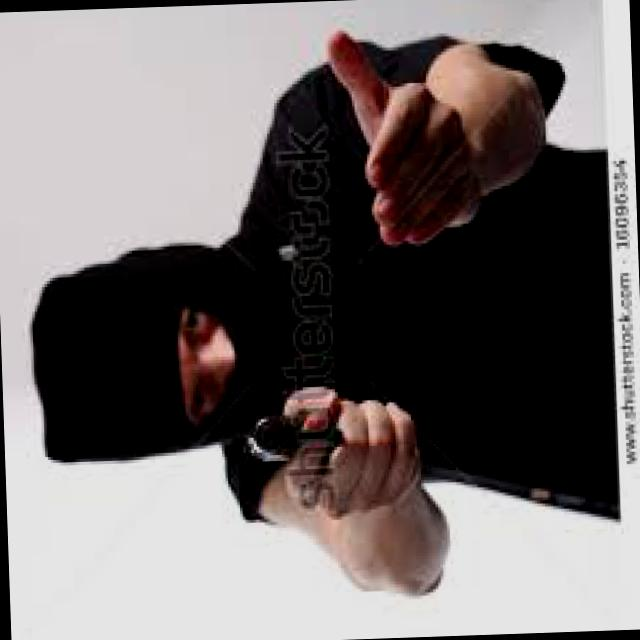handgun: (236, 408, 362, 476)
